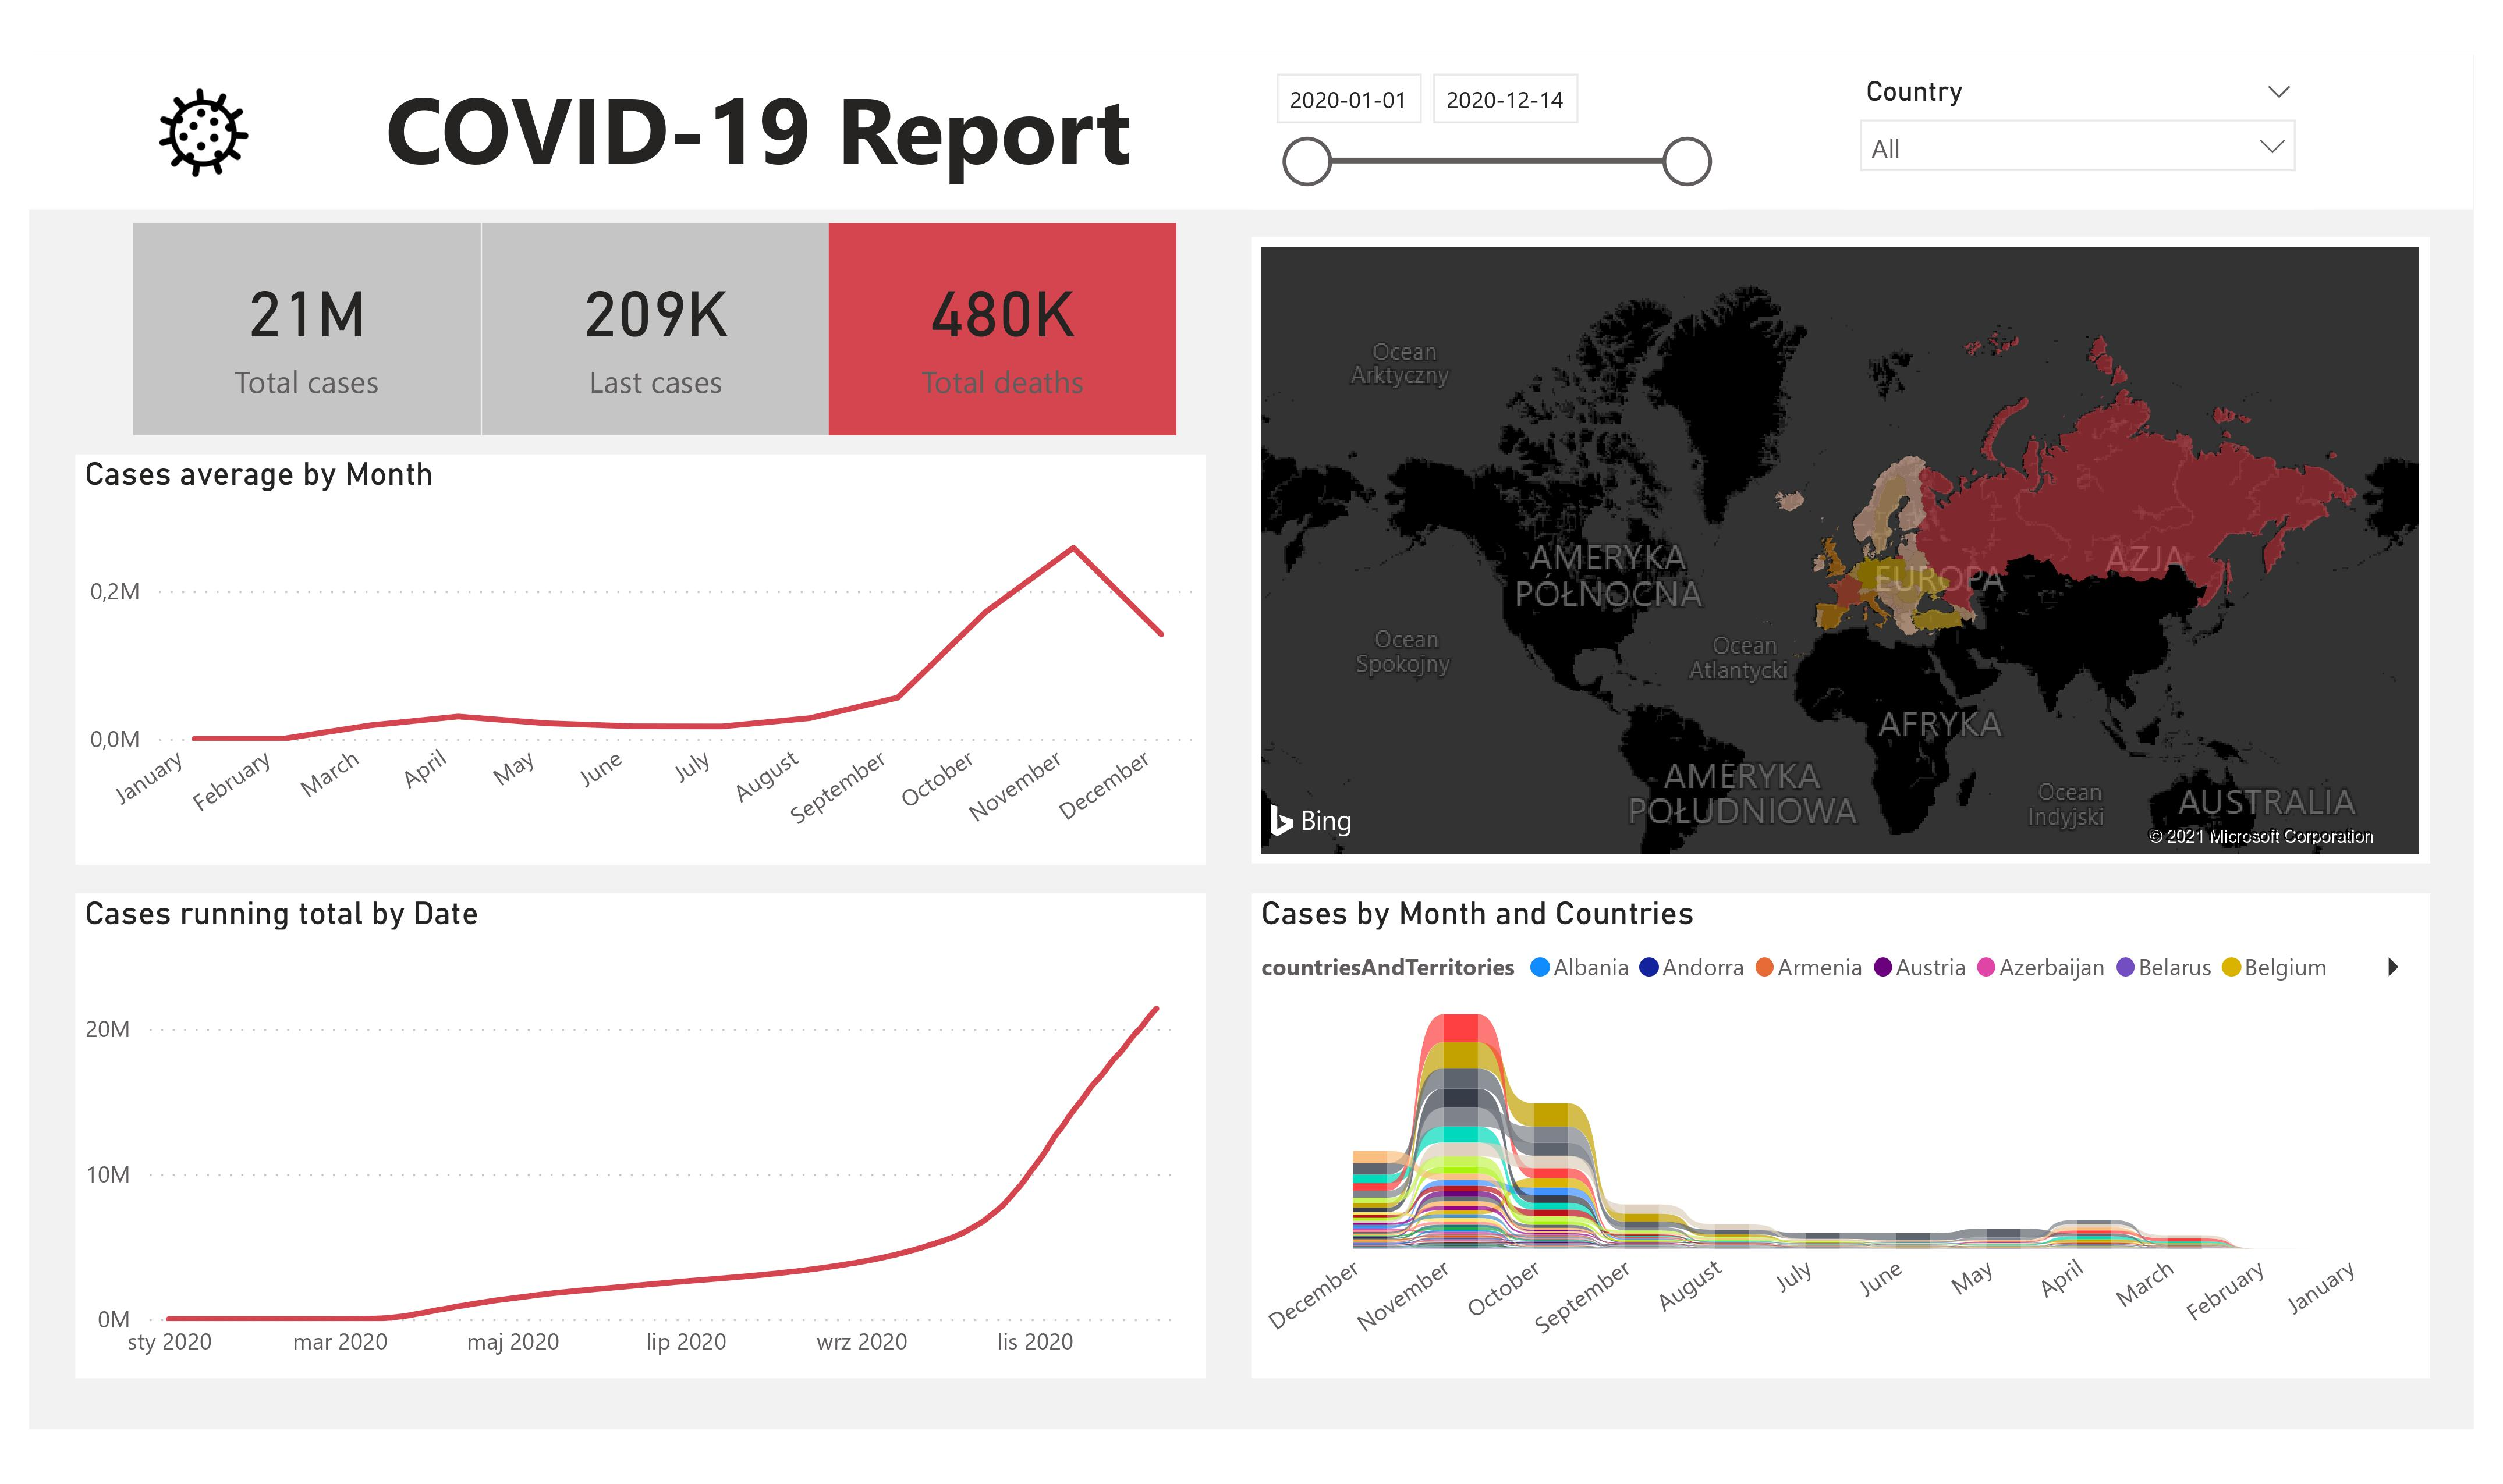

Layout of this report page (visuals, bound fields, positions):
{"tool":"powerbi","page":{"name":"Page 1","canvas":[1280,720],"ordinal":0},"visuals":[{"type":"lineChart","title":"Cases average by Month","fields":{"Category":["data.Week.Variation.Date Hierarchy.Year","data.Week.Variation.Date Hierarchy.Quarter","data.Week.Variation.Date Hierarchy.Month","data.Week.Variation.Date Hierarchy.Day"],"Y":["data.cases average per dateRep"]},"box":[24.6,209.5,592.3,215.3],"z":0},{"type":"filledMap","fields":{"Category":["data.countriesAndTerritories"]},"box":[640,96.1,616.7,328.2],"z":1000},{"type":"lineChart","title":"Cases running total by Date","fields":{"Category":["data.dateRep"],"Y":["data.cases running total in dateRep"]},"box":[24.6,439.2,592.3,254.3],"z":2000},{"type":"ribbonChart","title":"Cases by Month and Countries","fields":{"Category":["data.dateRep.Variation.Date Hierarchy.Month"],"Y":["Sum(data.cases)"],"Series":["data.countriesAndTerritories"]},"box":[640,439.2,616.9,254.3],"z":3000},{"type":"card","fields":{"Values":["Sum(data.cases)"]},"box":[54.9,88.6,182,111.2],"z":4000},{"type":"card","fields":{"Values":["Sum(data.cases)"]},"box":[237,88.6,182,111.2],"z":5000},{"type":"card","fields":{"Values":["Sum(data.deaths)"]},"box":[419,88.6,182,111.2],"z":6000},{"type":"textbox","box":[181.5,0,571.2,81.1],"z":7000},{"type":"image","box":[0,0,182,80.9],"z":8000},{"type":"slicer","fields":{"Values":["data.dateRep"]},"box":[782.9,0,248.1,81.1],"z":9000},{"type":"slicer","fields":{"Values":["data.countriesAndTerritories"]},"box":[1031,6.1,249.3,75],"z":10000}]}

Visuals, with their boxes on the page's 1280x720 design canvas (x1, y1, x2, y2). These are canvas units, not pixel positions in the 2503x1484 screenshot, which may show the page scaled, cropped or inside an application window:
"Cases average by Month" lineChart: (x1=25, y1=210, x2=617, y2=425)
filledMap - data.countriesAndTerritories: (x1=640, y1=96, x2=1257, y2=424)
"Cases running total by Date" lineChart: (x1=25, y1=439, x2=617, y2=694)
"Cases by Month and Countries" ribbonChart: (x1=640, y1=439, x2=1257, y2=694)
card - Sum(data.cases): (x1=55, y1=89, x2=237, y2=200)
card - Sum(data.cases): (x1=237, y1=89, x2=419, y2=200)
card - Sum(data.deaths): (x1=419, y1=89, x2=601, y2=200)
textbox: (x1=182, y1=0, x2=753, y2=81)
image: (x1=0, y1=0, x2=182, y2=81)
slicer - data.dateRep: (x1=783, y1=0, x2=1031, y2=81)
slicer - data.countriesAndTerritories: (x1=1031, y1=6, x2=1280, y2=81)
